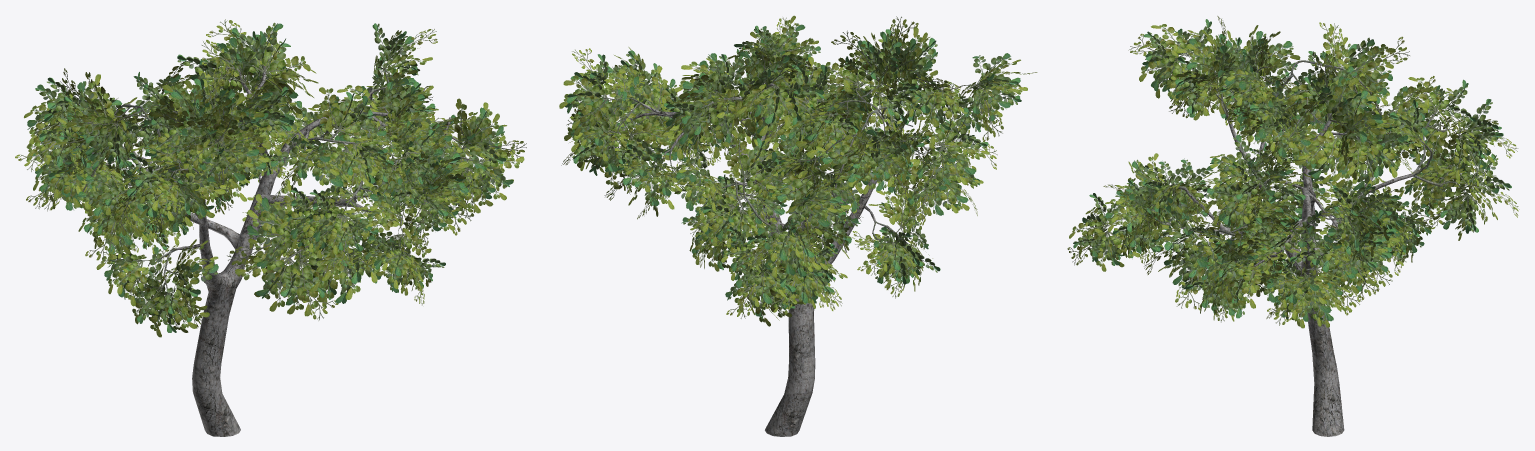
Rendered from Apple_Tree.FBX.
3 views of the same model, side by side, from view 1: azimuth 30°, elevation 25°; view 2: azimuth 150°, elevation 25°; view 3: azimuth 270°, elevation 25° (orthographic). The views are drawn at different scales.
Visible parts, largest first — view 1: Stvol; view 2: Stvol; view 3: Stvol.
Boxes of the visible parts, x1,y1,x2,y2 form: Stvol: [15, 19, 526, 436]; Stvol: [559, 15, 1037, 436]; Stvol: [1067, 16, 1519, 436].
Size of the model in its own units: 581 by 543 by 583.
Materials: 5 (5 with a texture image).
